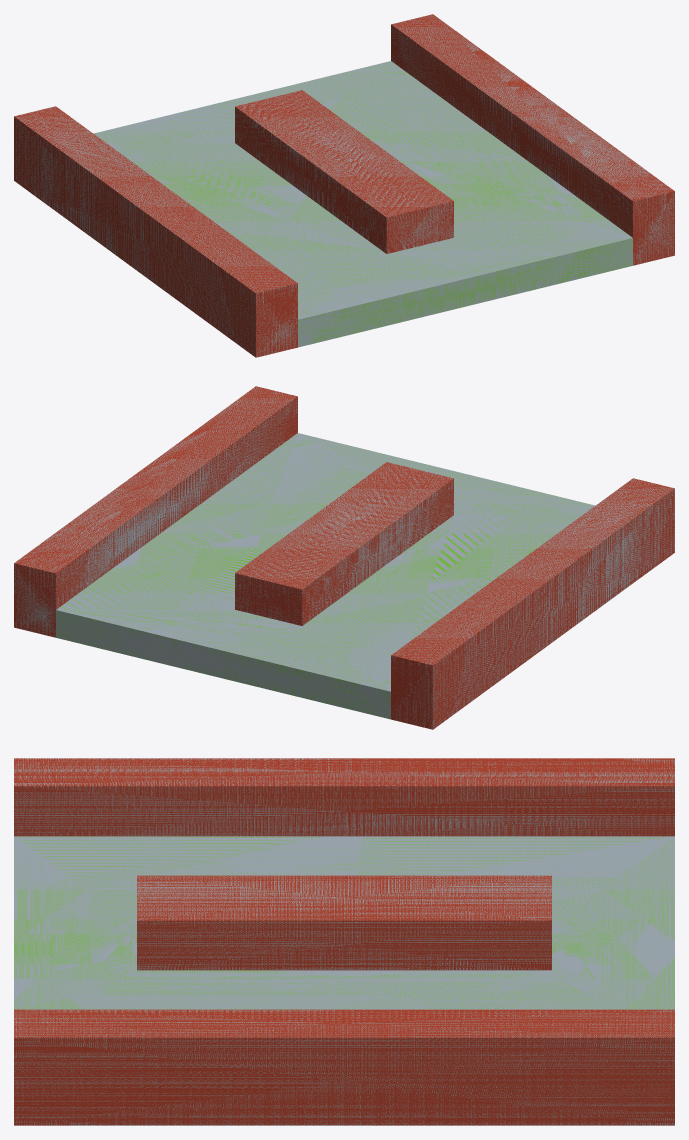
The model's file is Obstacle_block_01.obj.
The picture shows the model from 3 angles, top to bottom: view 1: azimuth 30°, elevation 25°; view 2: azimuth 150°, elevation 25°; view 3: azimuth 270°, elevation 25°; orthographic projection. The views are drawn at different scales.
Parts seen in each view (by area): view 1: Mesh1 Obstacle_block Model; view 2: Mesh1 Obstacle_block Model; view 3: Mesh1 Obstacle_block Model.
Part boxes in pixels (left/top/right/bottom): Mesh1 Obstacle_block Model: left=14, top=14, right=674, bottom=357; Mesh1 Obstacle_block Model: left=14, top=386, right=674, bottom=729; Mesh1 Obstacle_block Model: left=14, top=758, right=674, bottom=1125.
Size of the model in its own units: 3 by 0.44 by 3.
